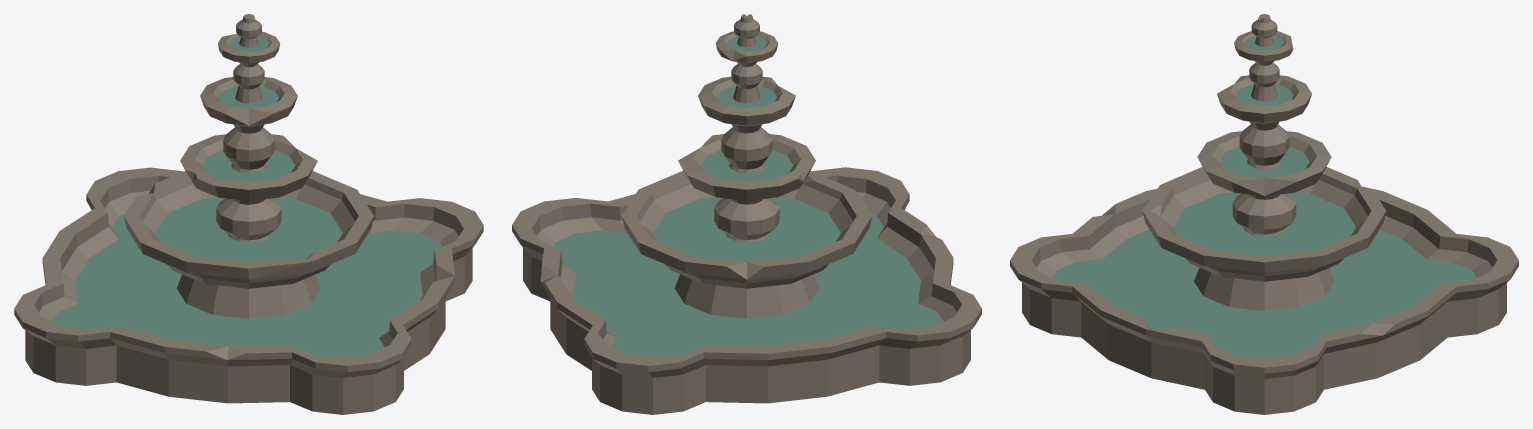
File: SM_Prop_Fountain_01.glb
3 renders of one model, left to right at view 1: azimuth 30°, elevation 25°; view 2: azimuth 150°, elevation 25°; view 3: azimuth 270°, elevation 25°, orthographic. The views are drawn at different scales.
Visible parts, largest first — view 1: SM_Prop_Fountain_01_part00, SM_Prop_Fountain_01_part01; view 2: SM_Prop_Fountain_01_part00, SM_Prop_Fountain_01_part01; view 3: SM_Prop_Fountain_01_part00, SM_Prop_Fountain_01_part01.
Part boxes in pixels (left/top/right/bottom): SM_Prop_Fountain_01_part00: left=14, top=14, right=483, bottom=414; SM_Prop_Fountain_01_part01: left=52, top=36, right=442, bottom=357; SM_Prop_Fountain_01_part00: left=512, top=14, right=981, bottom=414; SM_Prop_Fountain_01_part01: left=553, top=36, right=943, bottom=357; SM_Prop_Fountain_01_part00: left=1010, top=14, right=1518, bottom=414; SM_Prop_Fountain_01_part01: left=1052, top=35, right=1476, bottom=358.
Bounding box in the file's own units: 4.21 × 2.7 × 4.21.
Materials: 1 (1 with a texture image).
